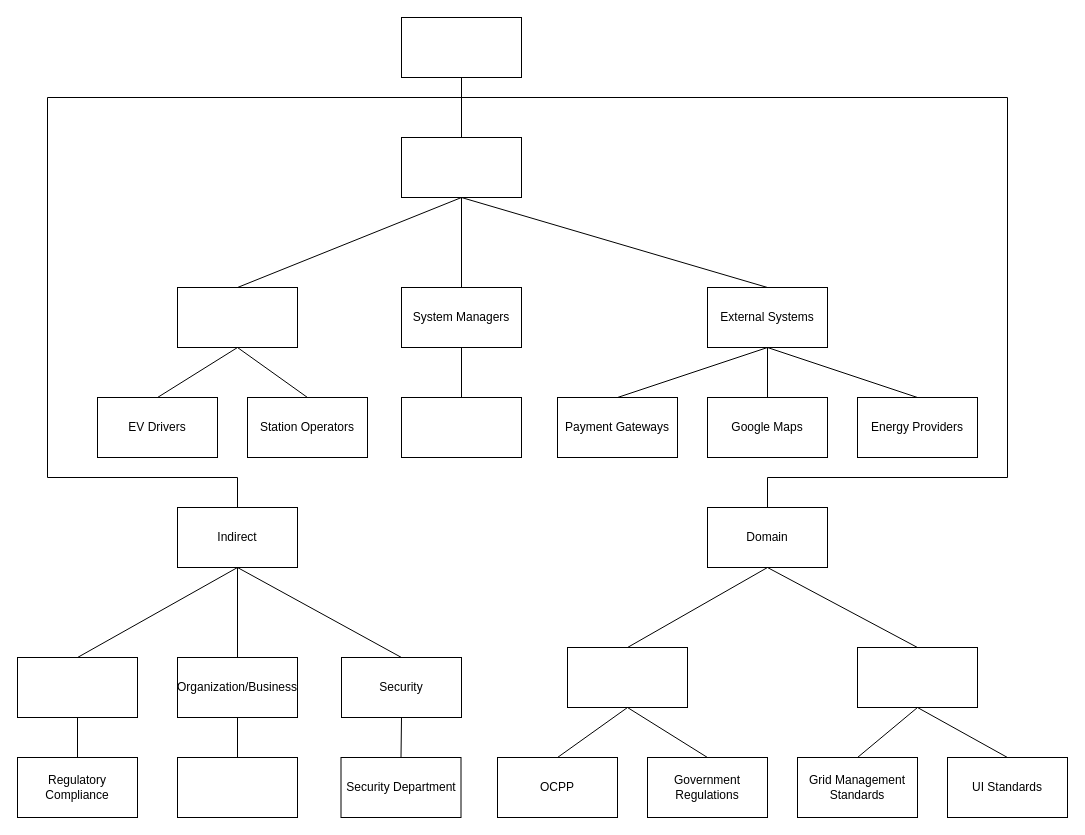
This 1085x835 diagram has some shape labels left out. The shapes that lost their labels are listed below. From the top down, each one's centre as x and y in pixels, then its label:
point (461, 47): All VPs
point (461, 167): Interactor
point (237, 317): Users
point (461, 427): System Administrator
point (77, 687): Legal
point (627, 677): Technical Standards
point (917, 677): Operational Standards
point (237, 787): Marketing Department
